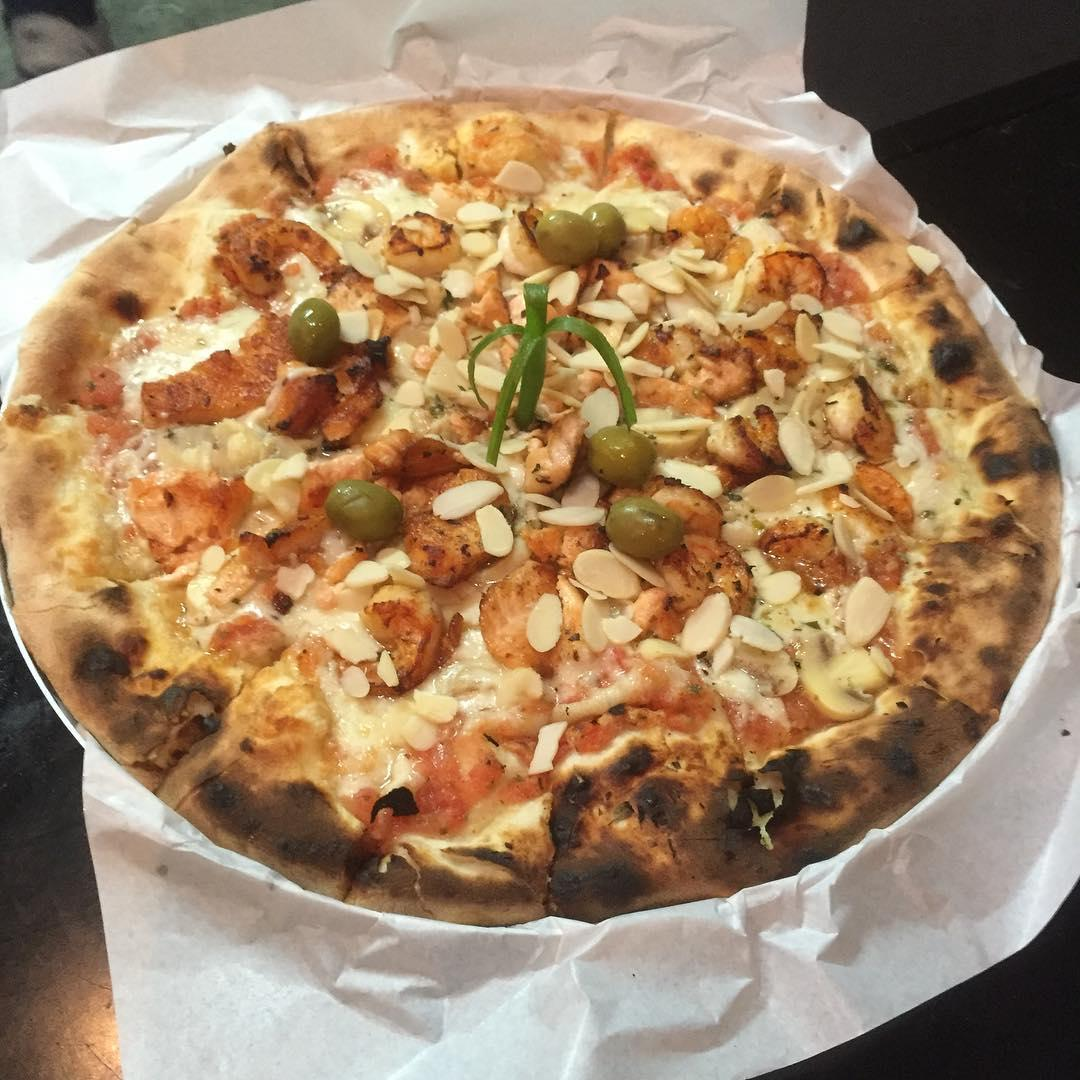Chicken: (363, 423, 515, 589), (637, 478, 770, 650), (140, 310, 301, 425), (470, 551, 597, 687), (122, 462, 259, 562), (357, 577, 468, 698), (196, 212, 351, 294), (653, 313, 795, 396), (203, 520, 321, 609), (747, 504, 858, 598), (263, 362, 390, 441), (810, 364, 905, 468), (747, 241, 833, 325), (663, 198, 764, 268), (683, 403, 788, 469), (322, 260, 430, 323), (366, 207, 467, 270), (490, 193, 562, 278), (285, 450, 374, 518), (530, 401, 587, 492), (849, 459, 918, 534)
Olives: (315, 471, 421, 554), (595, 488, 690, 563), (584, 419, 662, 491), (282, 288, 343, 366), (528, 207, 605, 262), (579, 191, 631, 259)
Pizza: (0, 88, 1080, 926)
